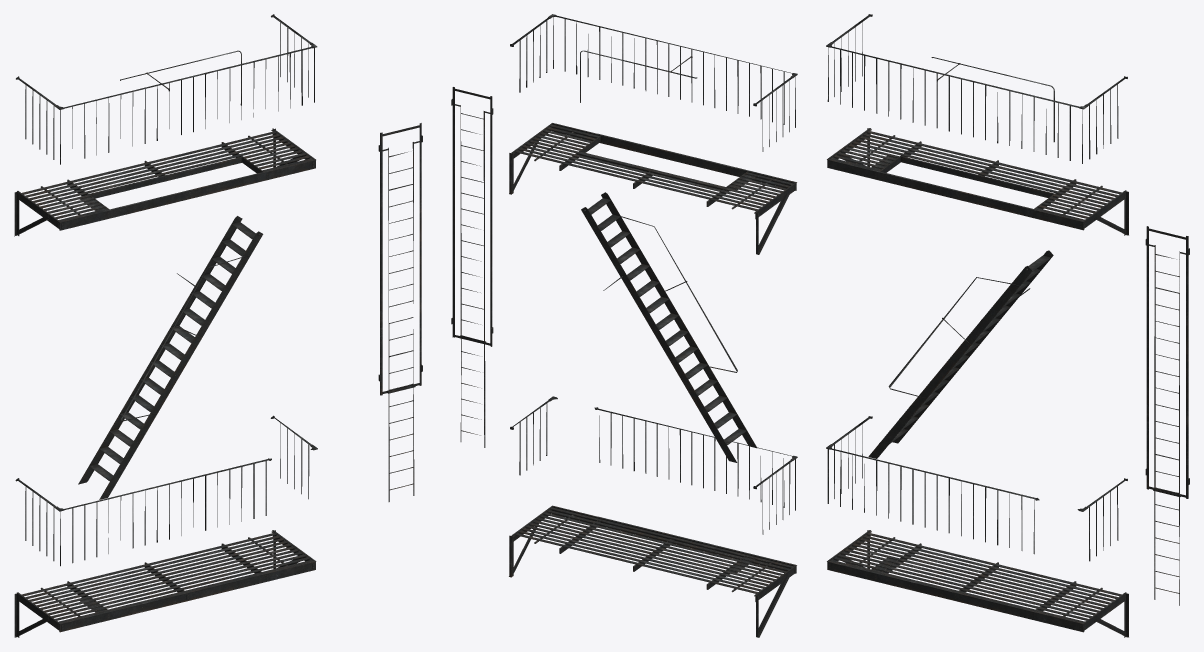
Rendered from fire-escape.glb.
3 renders of one model, left to right at view 1: azimuth 30°, elevation 25°; view 2: azimuth 150°, elevation 25°; view 3: azimuth 330°, elevation 25°, orthographic. The views are drawn at different scales.
Visible parts, largest first — view 1: modular_fire_escape_platform_bottom, modular_fire_escape_platform_middle, modular_fire_escape_stairs, modular_fire_escape_ladder_bottom, modular_fire_escape_railing_bottom, modular_fire_escape_railing_middle; view 2: modular_fire_escape_platform_bottom, modular_fire_escape_platform_middle, modular_fire_escape_stairs, modular_fire_escape_ladder_bottom, modular_fire_escape_railing_middle, modular_fire_escape_railing_bottom; view 3: modular_fire_escape_platform_bottom, modular_fire_escape_platform_middle, modular_fire_escape_stairs, modular_fire_escape_ladder_bottom, modular_fire_escape_railing_middle, modular_fire_escape_railing_bottom.
Boxes of the visible parts, box(x1,y1,x2,y2) form: modular_fire_escape_platform_bottom: box(14, 530, 316, 637); modular_fire_escape_platform_middle: box(14, 128, 315, 236); modular_fire_escape_stairs: box(78, 216, 263, 499); modular_fire_escape_ladder_bottom: box(378, 123, 422, 501); modular_fire_escape_railing_bottom: box(15, 415, 317, 566); modular_fire_escape_railing_middle: box(16, 14, 317, 164); modular_fire_escape_platform_bottom: box(509, 505, 796, 637); modular_fire_escape_platform_middle: box(509, 123, 796, 254); modular_fire_escape_stairs: box(581, 192, 757, 462); modular_fire_escape_ladder_bottom: box(451, 87, 493, 447); modular_fire_escape_railing_middle: box(510, 14, 797, 151); modular_fire_escape_railing_bottom: box(510, 396, 797, 534); modular_fire_escape_platform_bottom: box(827, 530, 1128, 637); modular_fire_escape_platform_middle: box(827, 128, 1128, 235); modular_fire_escape_stairs: box(868, 250, 1053, 458); modular_fire_escape_ladder_bottom: box(1145, 226, 1189, 605); modular_fire_escape_railing_middle: box(826, 14, 1127, 163); modular_fire_escape_railing_bottom: box(826, 416, 1127, 561).
Bounding box in the file's own units: 6.66 × 9.76 × 1.42.
3 materials, 3 textured.
